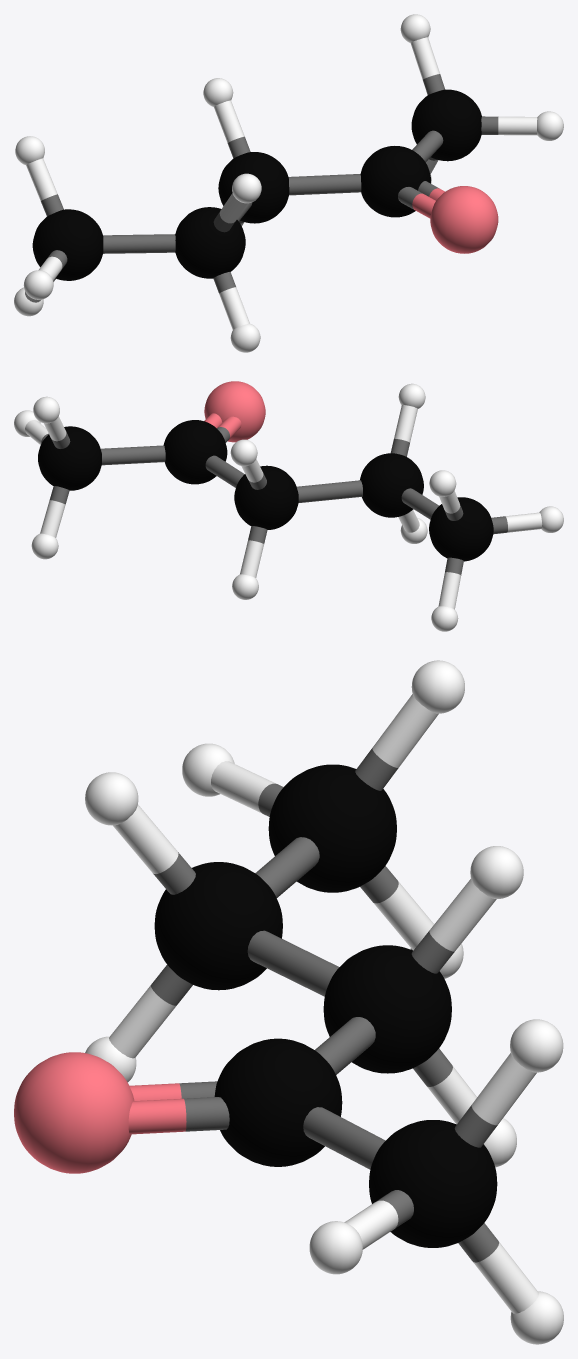
Rendered from pentan-2-one.glb.
3 views of the same model, one above another, from view 1: azimuth 30°, elevation 25°; view 2: azimuth 150°, elevation 25°; view 3: azimuth 270°, elevation 25° (orthographic). The views are drawn at different scales.
Parts seen in each view (by area): view 1: Oxygen_ball.001, Hydrogen_sticks_cylinder.037; view 2: Oxygen_ball.001, Hydrogen_sticks_cylinder.037; view 3: Oxygen_ball.001, Hydrogen_sticks_cylinder.037.
Boxes of the visible parts, x1=… form: Oxygen_ball.001: x1=14, y1=14, x2=563, y2=352; Hydrogen_sticks_cylinder.037: x1=25, y1=37, x2=537, y2=329; Oxygen_ball.001: x1=14, y1=381, x2=563, y2=631; Hydrogen_sticks_cylinder.037: x1=25, y1=405, x2=542, y2=609; Oxygen_ball.001: x1=14, y1=660, x2=563, y2=1344; Hydrogen_sticks_cylinder.037: x1=109, y1=694, x2=538, y2=1313.
Size of the model in its own units: 7.1 by 2.16 by 3.3.
